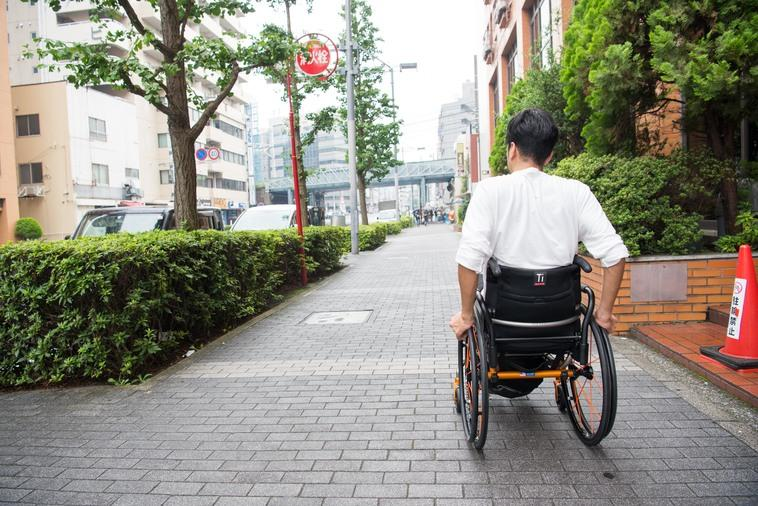wheelchair: (449, 108, 629, 450)
